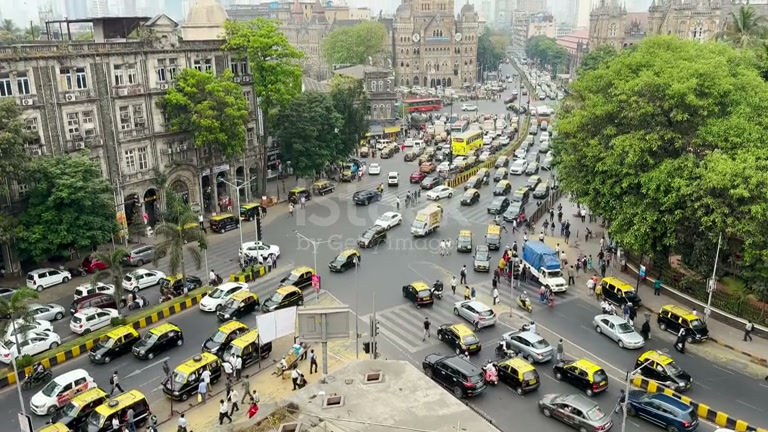bus: (521, 239, 568, 294)
car: (29, 367, 107, 419), (73, 389, 159, 432), (625, 386, 700, 432), (538, 391, 617, 431), (161, 350, 224, 400), (421, 352, 485, 399), (631, 349, 693, 393), (498, 323, 559, 365), (481, 354, 541, 396), (88, 323, 142, 365), (553, 357, 609, 397), (131, 321, 184, 361), (656, 303, 709, 342), (592, 314, 645, 350), (199, 282, 251, 314), (436, 322, 482, 357), (217, 288, 260, 322), (453, 299, 497, 330), (69, 307, 116, 335), (26, 267, 72, 291), (402, 280, 435, 307), (328, 247, 361, 273), (26, 302, 66, 323), (357, 227, 386, 249), (371, 210, 402, 229), (473, 246, 491, 273), (352, 189, 380, 206), (460, 188, 480, 207)
pedestrian: (109, 370, 124, 397), (310, 349, 318, 376)
truck: (522, 239, 568, 295)
